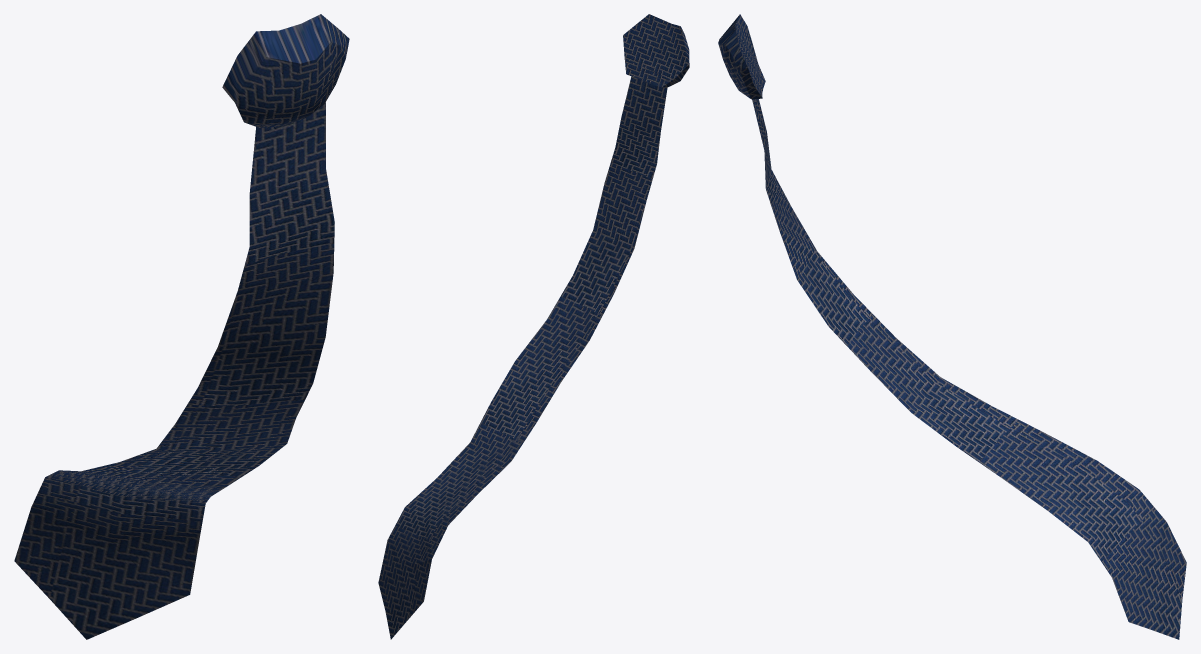
The model's file is Pose-11_SuitTie-3.fbx.
The picture shows the model from 3 angles, left to right: view 1: azimuth 30°, elevation 25°; view 2: azimuth 150°, elevation 25°; view 3: azimuth 270°, elevation 25°; orthographic projection. The views are drawn at different scales.
Parts seen in each view (by area): view 1: Pose-11_SuitTie-3; view 2: Pose-11_SuitTie-3; view 3: Pose-11_SuitTie-3.
Boxes of the visible parts, x1=… form: Pose-11_SuitTie-3: x1=14, y1=14, x2=349, y2=639; Pose-11_SuitTie-3: x1=378, y1=14, x2=689, y2=639; Pose-11_SuitTie-3: x1=718, y1=14, x2=1186, y2=639.
Size of the model in its own units: 12.04 by 39.32 by 29.1.
